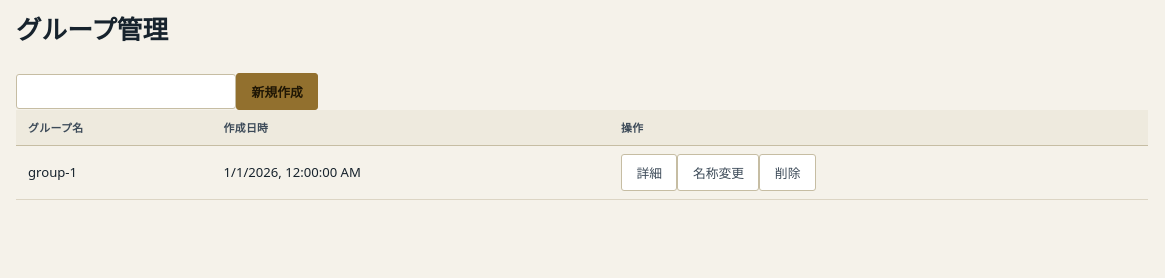
it: GroupListPage › shows an error toast when group creation fails
Expected: the text "group-1" is shown, [16,145,212,199]
Type "new-group" into the field with test id "group-list-page-new-name-input". click: [126, 91]
box: [16,74,236,109]
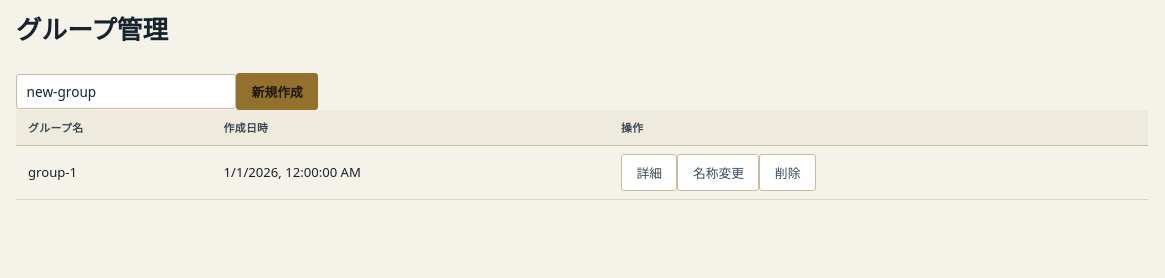
Click the button with test id "group-list-page-new-button". click: [277, 91]
box: [236,73,318,110]
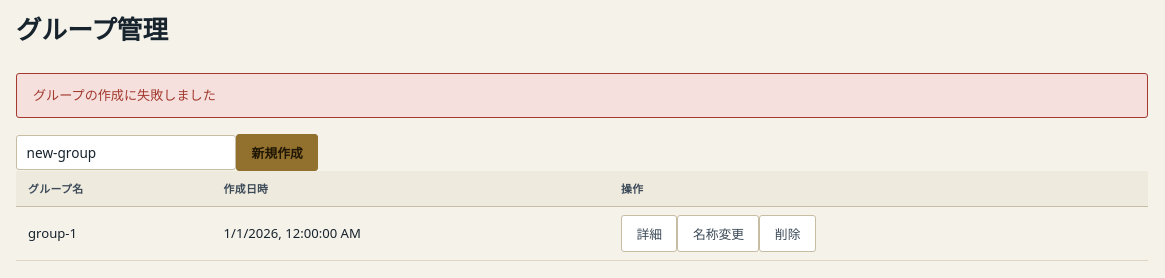
Expected: the message "グループの作成に失敗しました" is shown, [16,73,1148,118]
